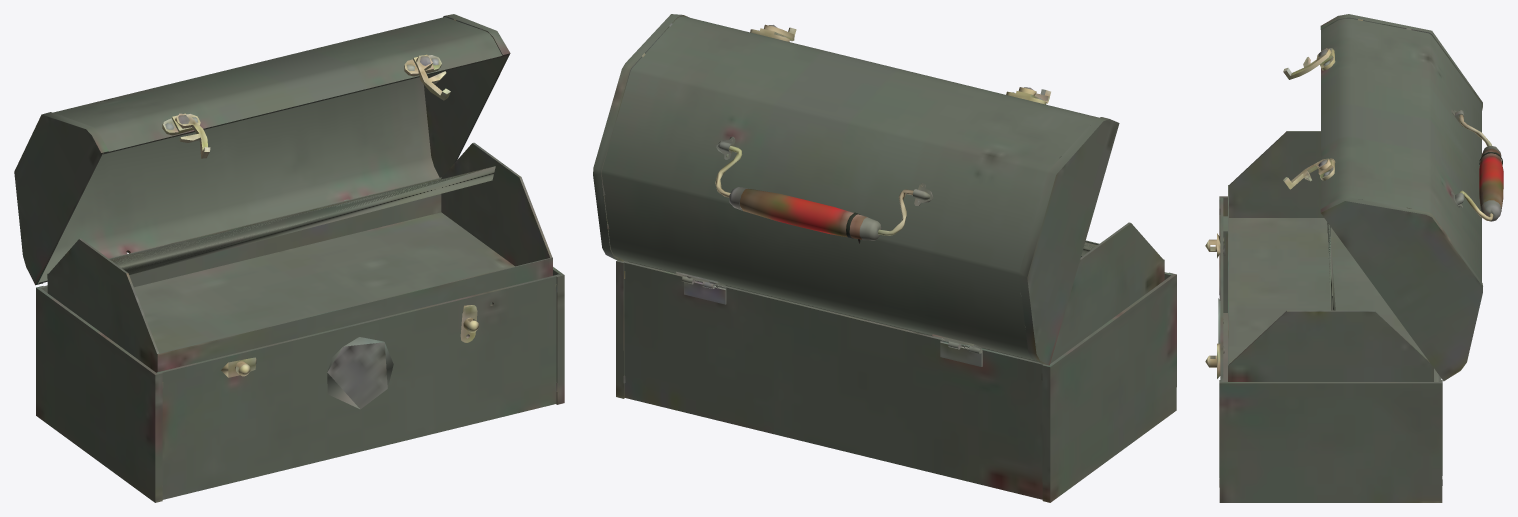
File: toolbox-metal.glb
The picture shows the model from 3 angles, left to right: view 1: azimuth 30°, elevation 25°; view 2: azimuth 150°, elevation 25°; view 3: azimuth 270°, elevation 25°; orthographic projection. The views are drawn at different scales.
Parts seen in each view (by area): view 1: Cylinder.015, metal_toolbox, metal_toolbox_tray, metal_toolbox_handle_latch_r; view 2: Cylinder.015, metal_toolbox, metal_toolbox_tray, metal_toolbox_handle; view 3: Cylinder.015, metal_toolbox_tray, metal_toolbox, metal_toolbox_handle, metal_toolbox_handle_latch_l, metal_toolbox_handle_latch_r.
Part boxes in pixels (left/top/right/bottom): Cylinder.015: left=14, top=14, right=510, bottom=285; metal_toolbox: left=36, top=267, right=564, bottom=502; metal_toolbox_tray: left=47, top=142, right=552, bottom=372; metal_toolbox_handle_latch_r: left=416, top=55, right=450, bottom=100; Cylinder.015: left=593, top=14, right=1119, bottom=365; metal_toolbox: left=616, top=260, right=1176, bottom=502; metal_toolbox_tray: left=628, top=222, right=1164, bottom=363; metal_toolbox_handle: left=715, top=145, right=913, bottom=243; Cylinder.015: left=1318, top=14, right=1482, bottom=381; metal_toolbox_tray: left=1228, top=131, right=1433, bottom=381; metal_toolbox: left=1205, top=196, right=1442, bottom=502; metal_toolbox_handle: left=1459, top=114, right=1503, bottom=221; metal_toolbox_handle_latch_l: left=1283, top=48, right=1331, bottom=79; metal_toolbox_handle_latch_r: left=1283, top=158, right=1330, bottom=189.
Bounding box in the file's own units: 0.4 × 0.3047 × 0.2702.
1 material, 1 textured.
